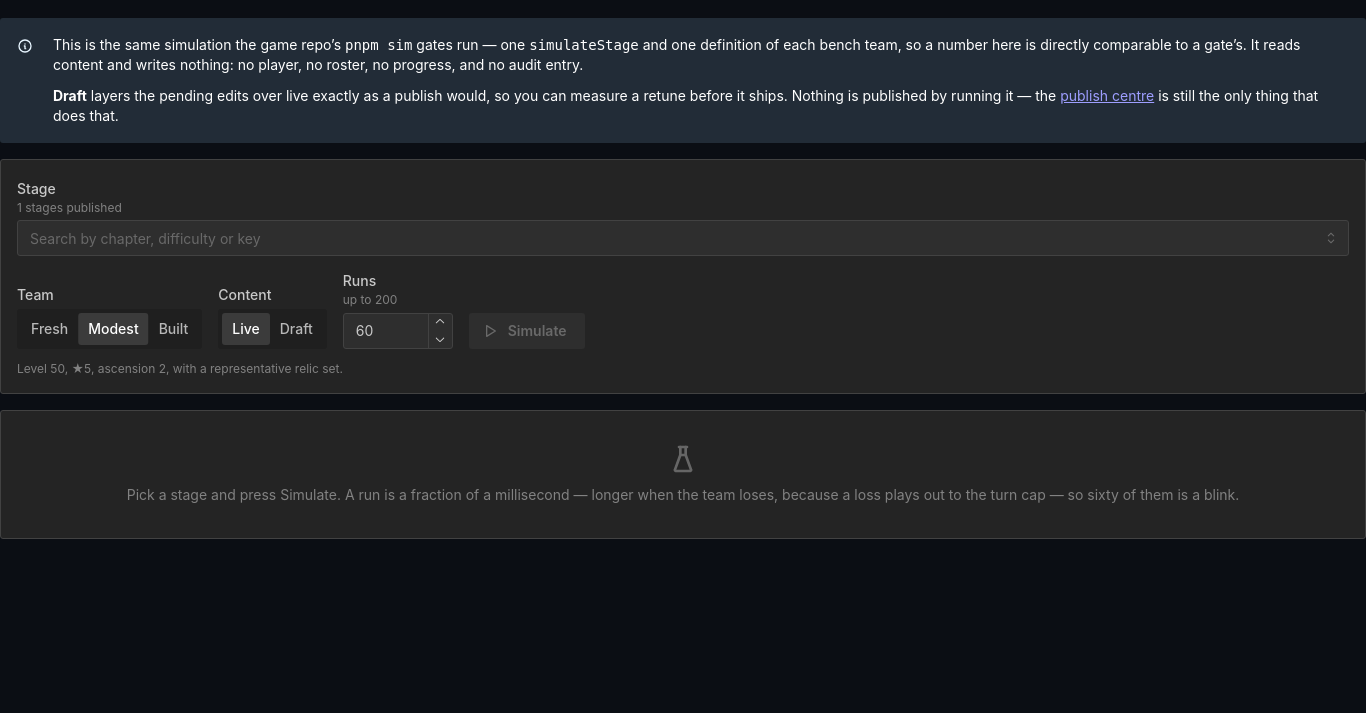
Scenario: the balance sandbox › reports the run, and the team that produced it
The width and height of the screenshot is (1366, 713).
Click the field labelled "Stage" at {"x": 683, "y": 238}, box x1=17 y1=220 x2=1349 y2=256
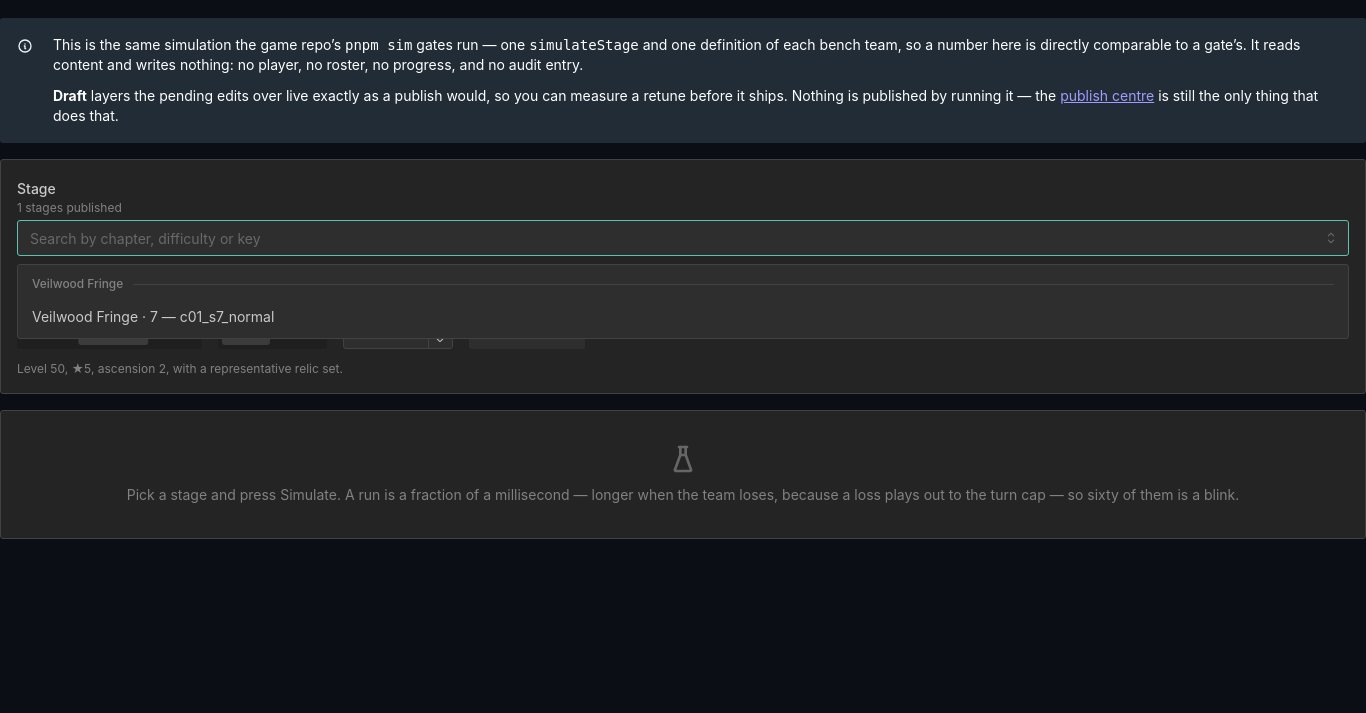
Click the option "Veilwood Fringe · 7 — c01_s7_normal" at {"x": 153, "y": 316}, box x1=32 y1=308 x2=274 y2=325
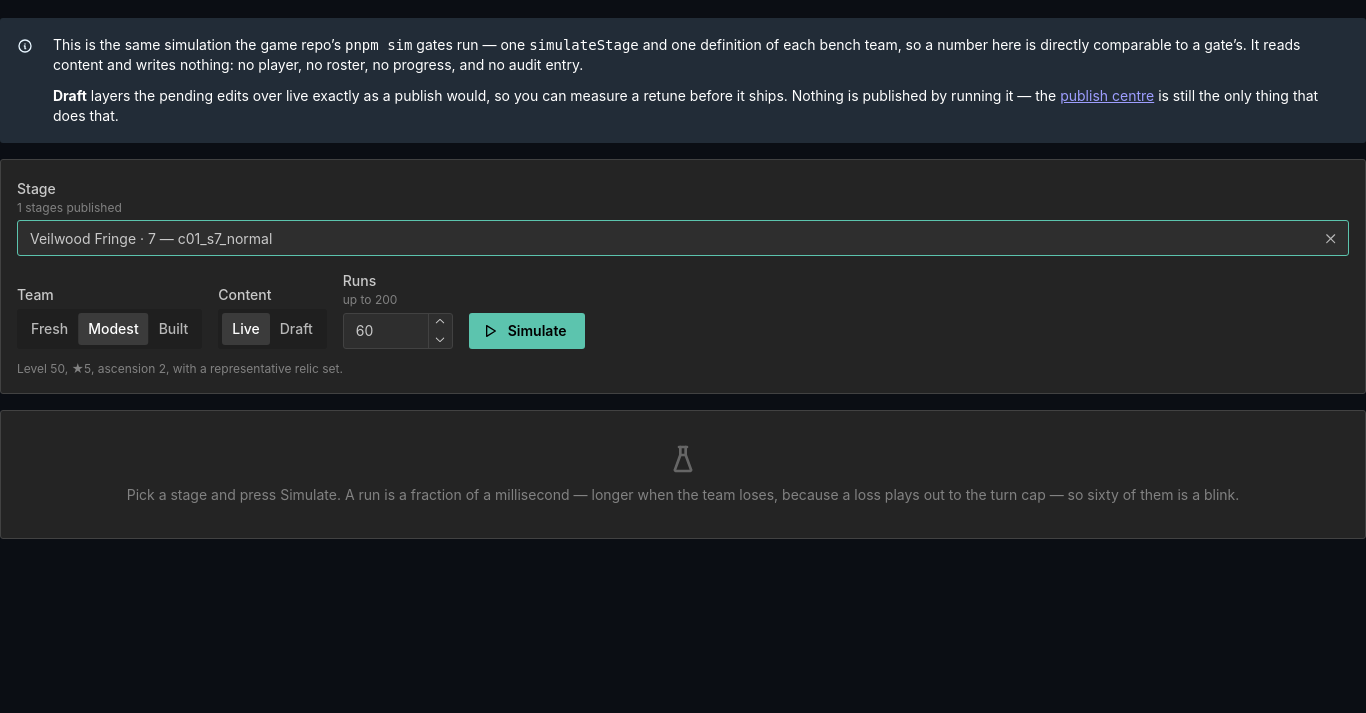
Click the button "Simulate" at {"x": 527, "y": 331}, box x1=469 y1=313 x2=585 y2=349
(page scrolled)
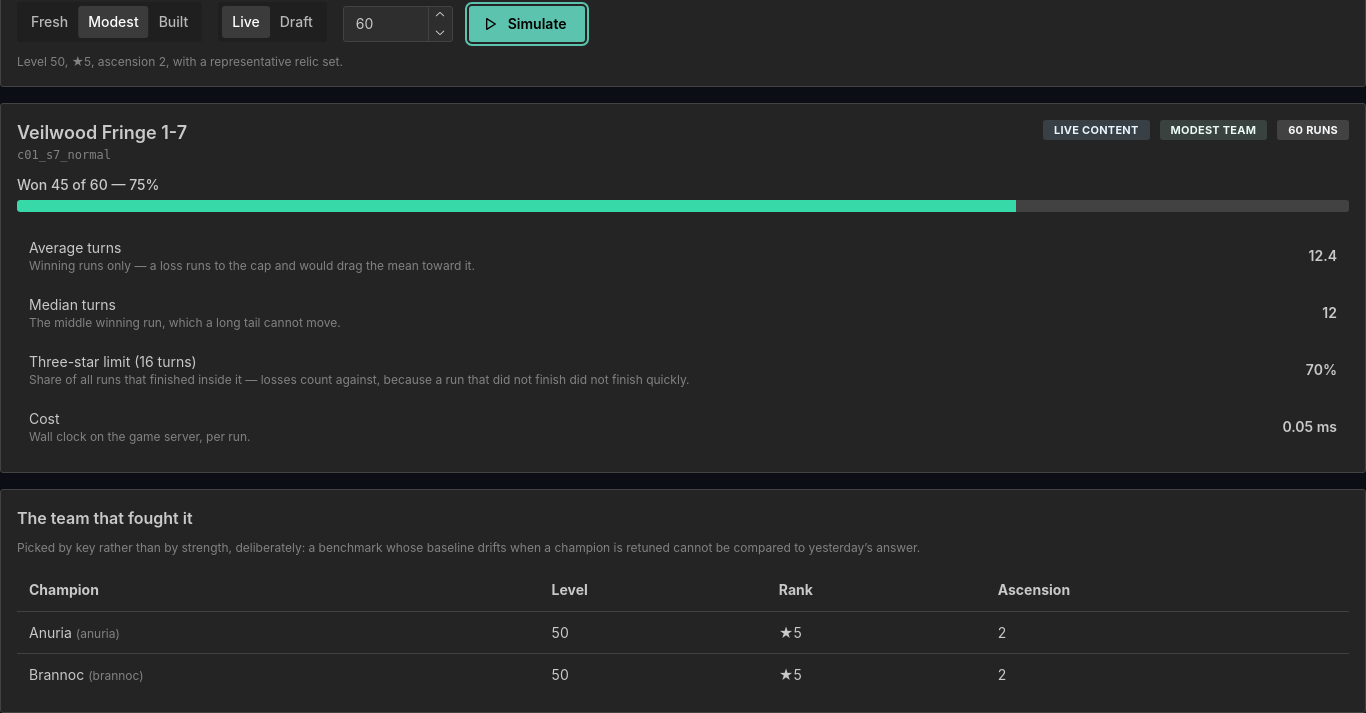
Result: the text "Won 45 of 60 — 75%" is shown at x1=17 y1=176 x2=159 y2=193
Result: the text "12.4" is shown at x1=1309 y1=247 x2=1337 y2=264
Result: the text "Three-star limit (16 turns)" is shown at x1=29 y1=353 x2=197 y2=370
